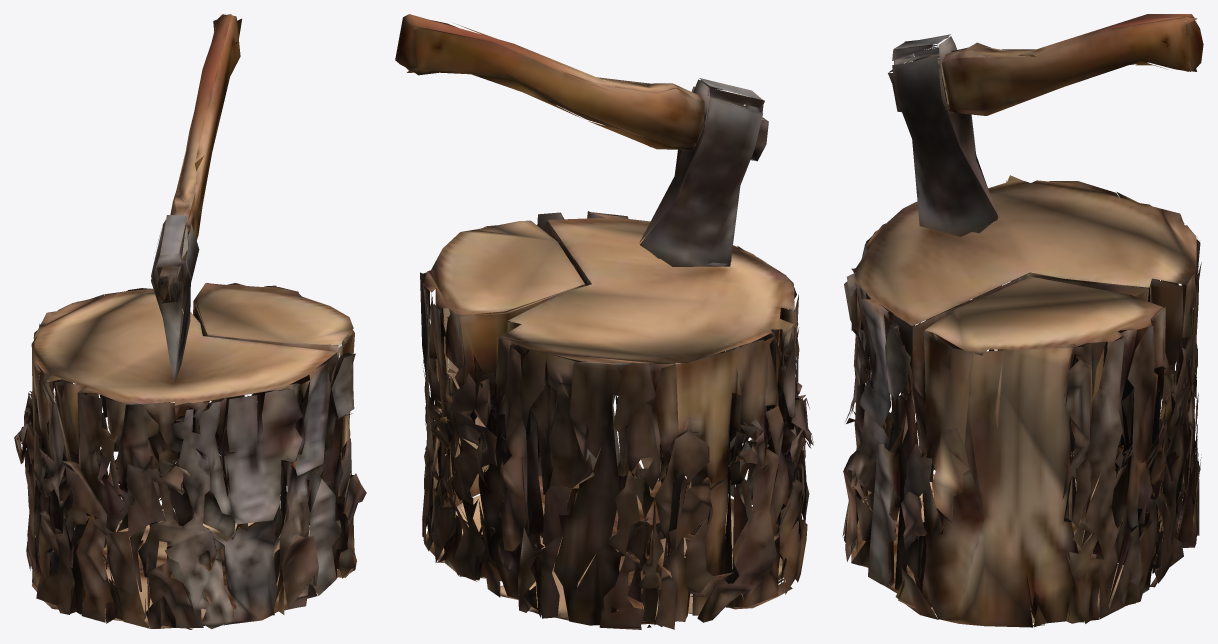
The model's file is tronco_picar.movil.glb.
The picture shows the model from 3 angles, left to right: view 1: azimuth 30°, elevation 25°; view 2: azimuth 150°, elevation 25°; view 3: azimuth 270°, elevation 25°; orthographic projection. The views are drawn at different scales.
Parts seen in each view (by area): view 1: geometry_0; view 2: geometry_0; view 3: geometry_0.
Boxes of the visible parts, x1=… form: geometry_0: x1=14, y1=14, x2=366, y2=629; geometry_0: x1=395, y1=14, x2=813, y2=629; geometry_0: x1=842, y1=14, x2=1203, y2=627.
Size of the model in its own units: 0.5997 by 0.9041 by 0.4989.
1 material, 1 textured.
